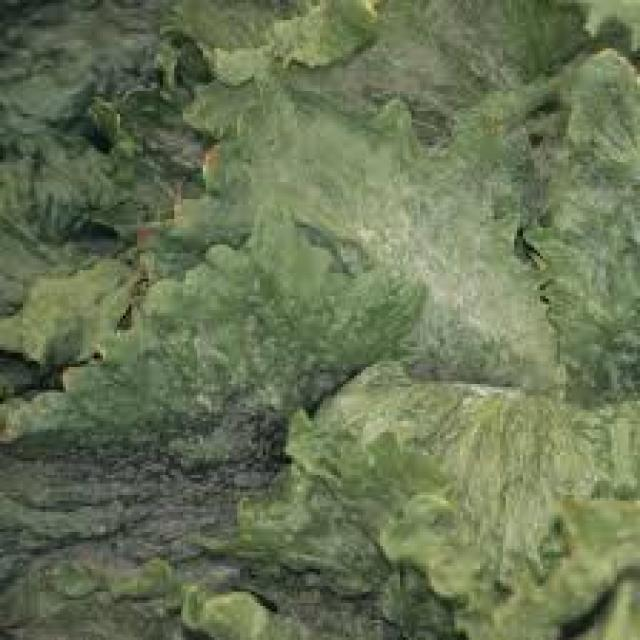Powdery_mildew_on_lettuce: (310, 153, 621, 396)
